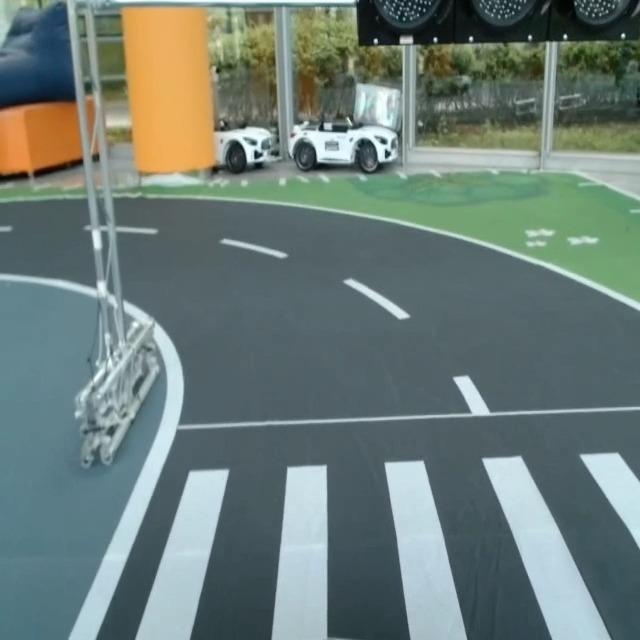traffic-light: (351, 0, 640, 52)
